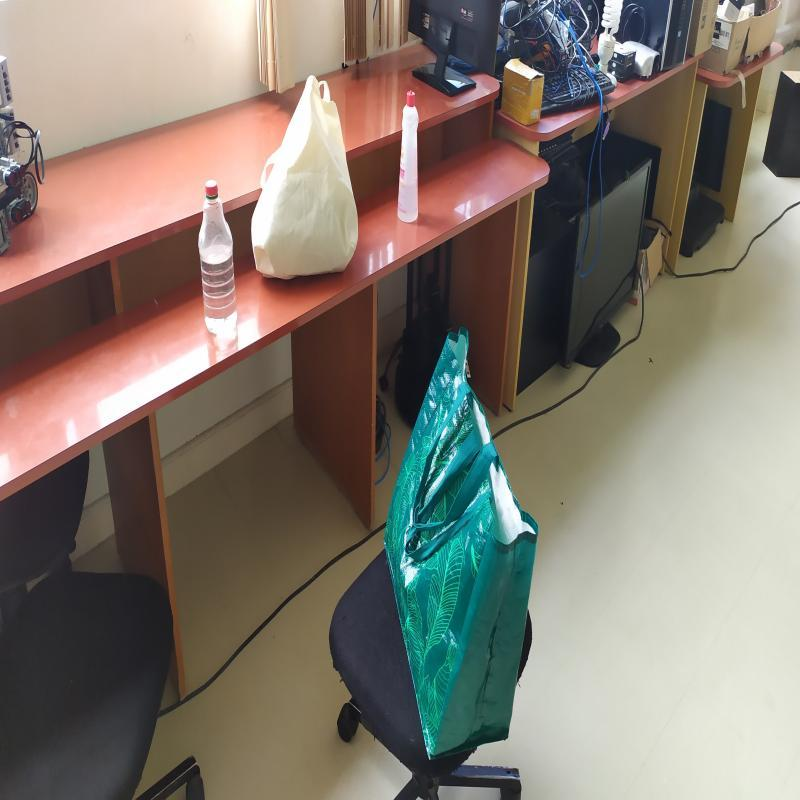Bag: (384, 319, 542, 762), (251, 77, 360, 278)
